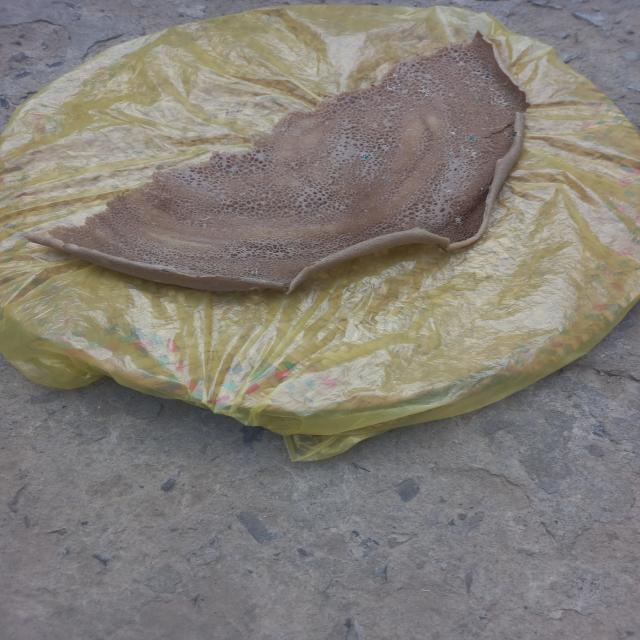injera_mold: (489, 96, 514, 112), (419, 85, 433, 98), (386, 84, 403, 90), (453, 216, 464, 225), (466, 136, 478, 142), (388, 74, 400, 80), (362, 154, 372, 160), (502, 90, 512, 96), (471, 150, 477, 159), (482, 74, 492, 79), (250, 270, 260, 274), (449, 132, 456, 136), (474, 95, 481, 99), (384, 176, 390, 180), (437, 139, 441, 144), (380, 160, 386, 163), (446, 153, 452, 156), (477, 70, 481, 73), (409, 108, 414, 110), (447, 190, 451, 192), (481, 188, 484, 190)
